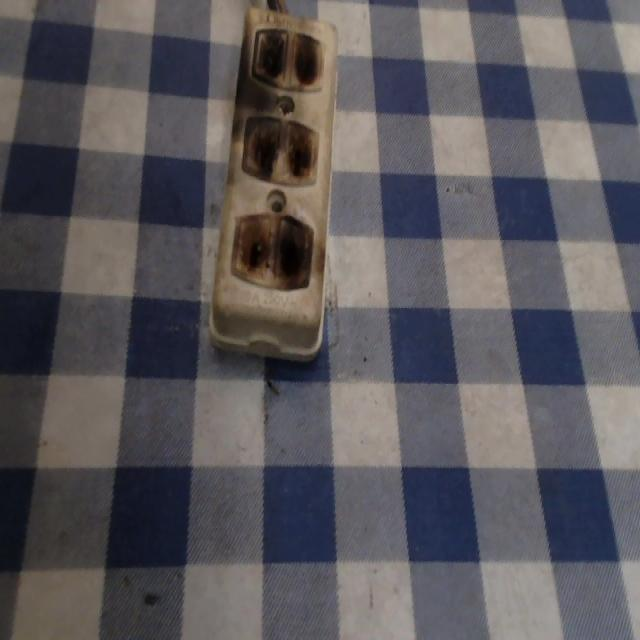-: (228, 208, 314, 291), (240, 114, 319, 186), (249, 24, 323, 93)
